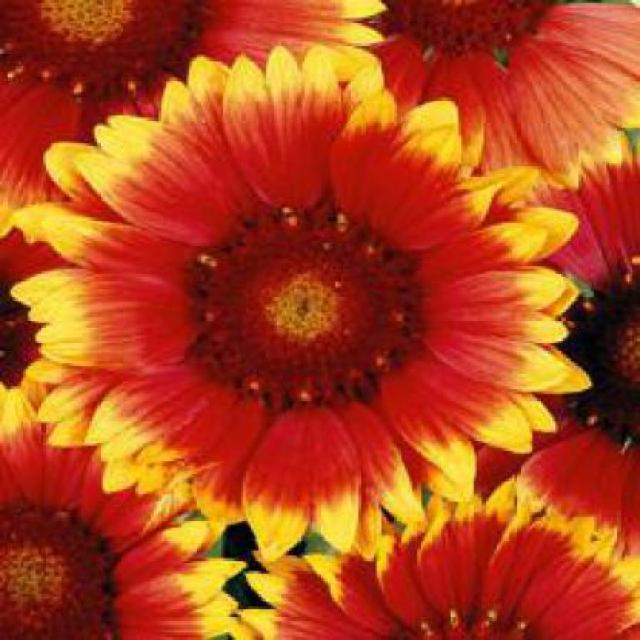Flower: (13, 43, 592, 563), (2, 2, 387, 261), (269, 2, 638, 213), (3, 369, 249, 638), (238, 476, 638, 638), (199, 205, 415, 408), (2, 3, 198, 97), (3, 507, 115, 638), (389, 2, 551, 55)
